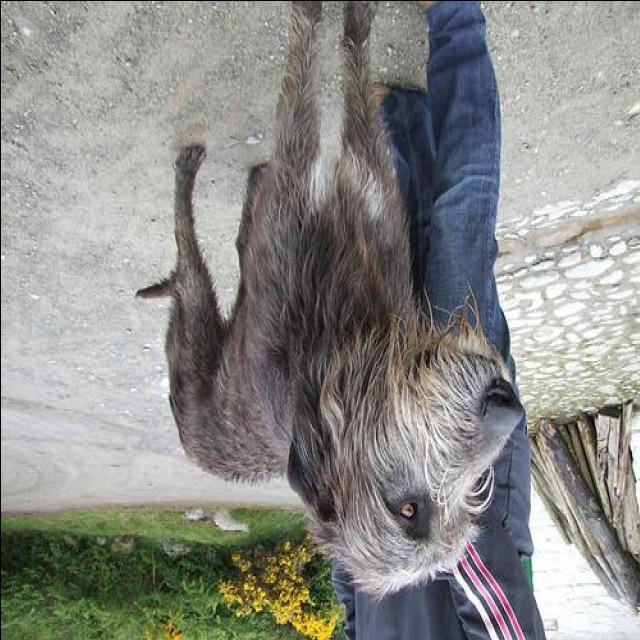irish_wolfhound: (138, 2, 522, 592)
